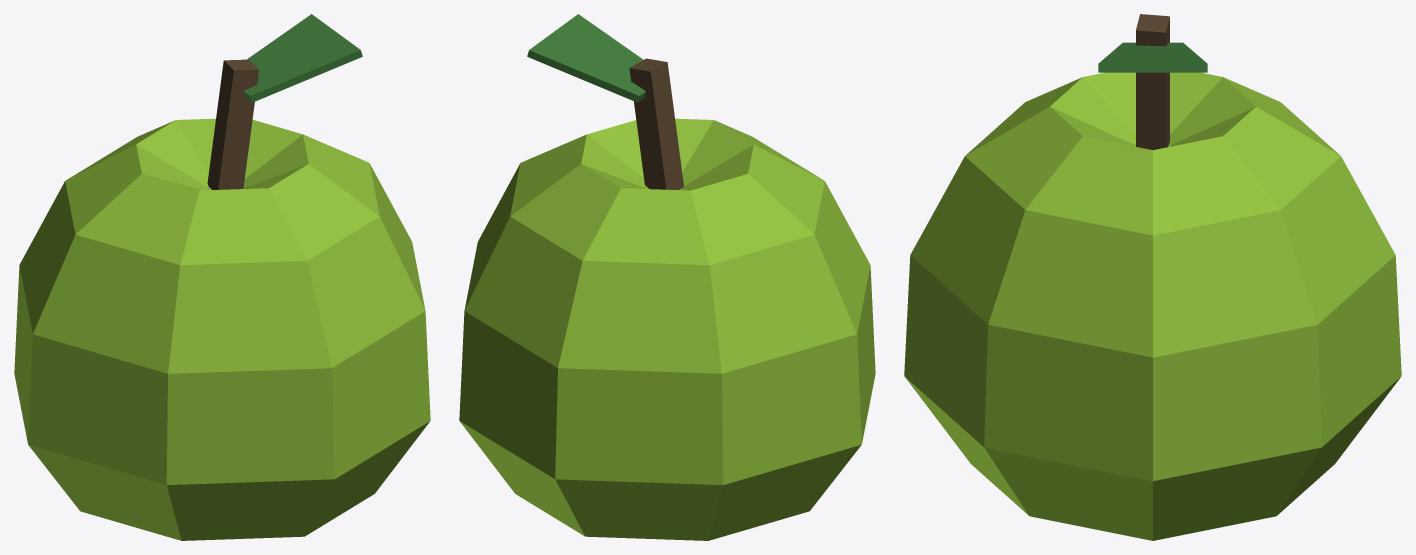
Rendered from FD_Apple_Green_01.glb.
3 renders of one model, left to right at view 1: azimuth 30°, elevation 25°; view 2: azimuth 150°, elevation 25°; view 3: azimuth 270°, elevation 25°, orthographic. The views are drawn at different scales.
Parts seen in each view (by area): view 1: FD_Apple_Green_01; view 2: FD_Apple_Green_01; view 3: FD_Apple_Green_01.
Part boxes in pixels (bbox=[...]): FD_Apple_Green_01: bbox=[14, 14, 430, 540]; FD_Apple_Green_01: bbox=[459, 14, 875, 540]; FD_Apple_Green_01: bbox=[904, 14, 1401, 540].
Bounding box in the file's own units: 0.082 × 0.09 × 0.082.
1 material, 1 textured.
